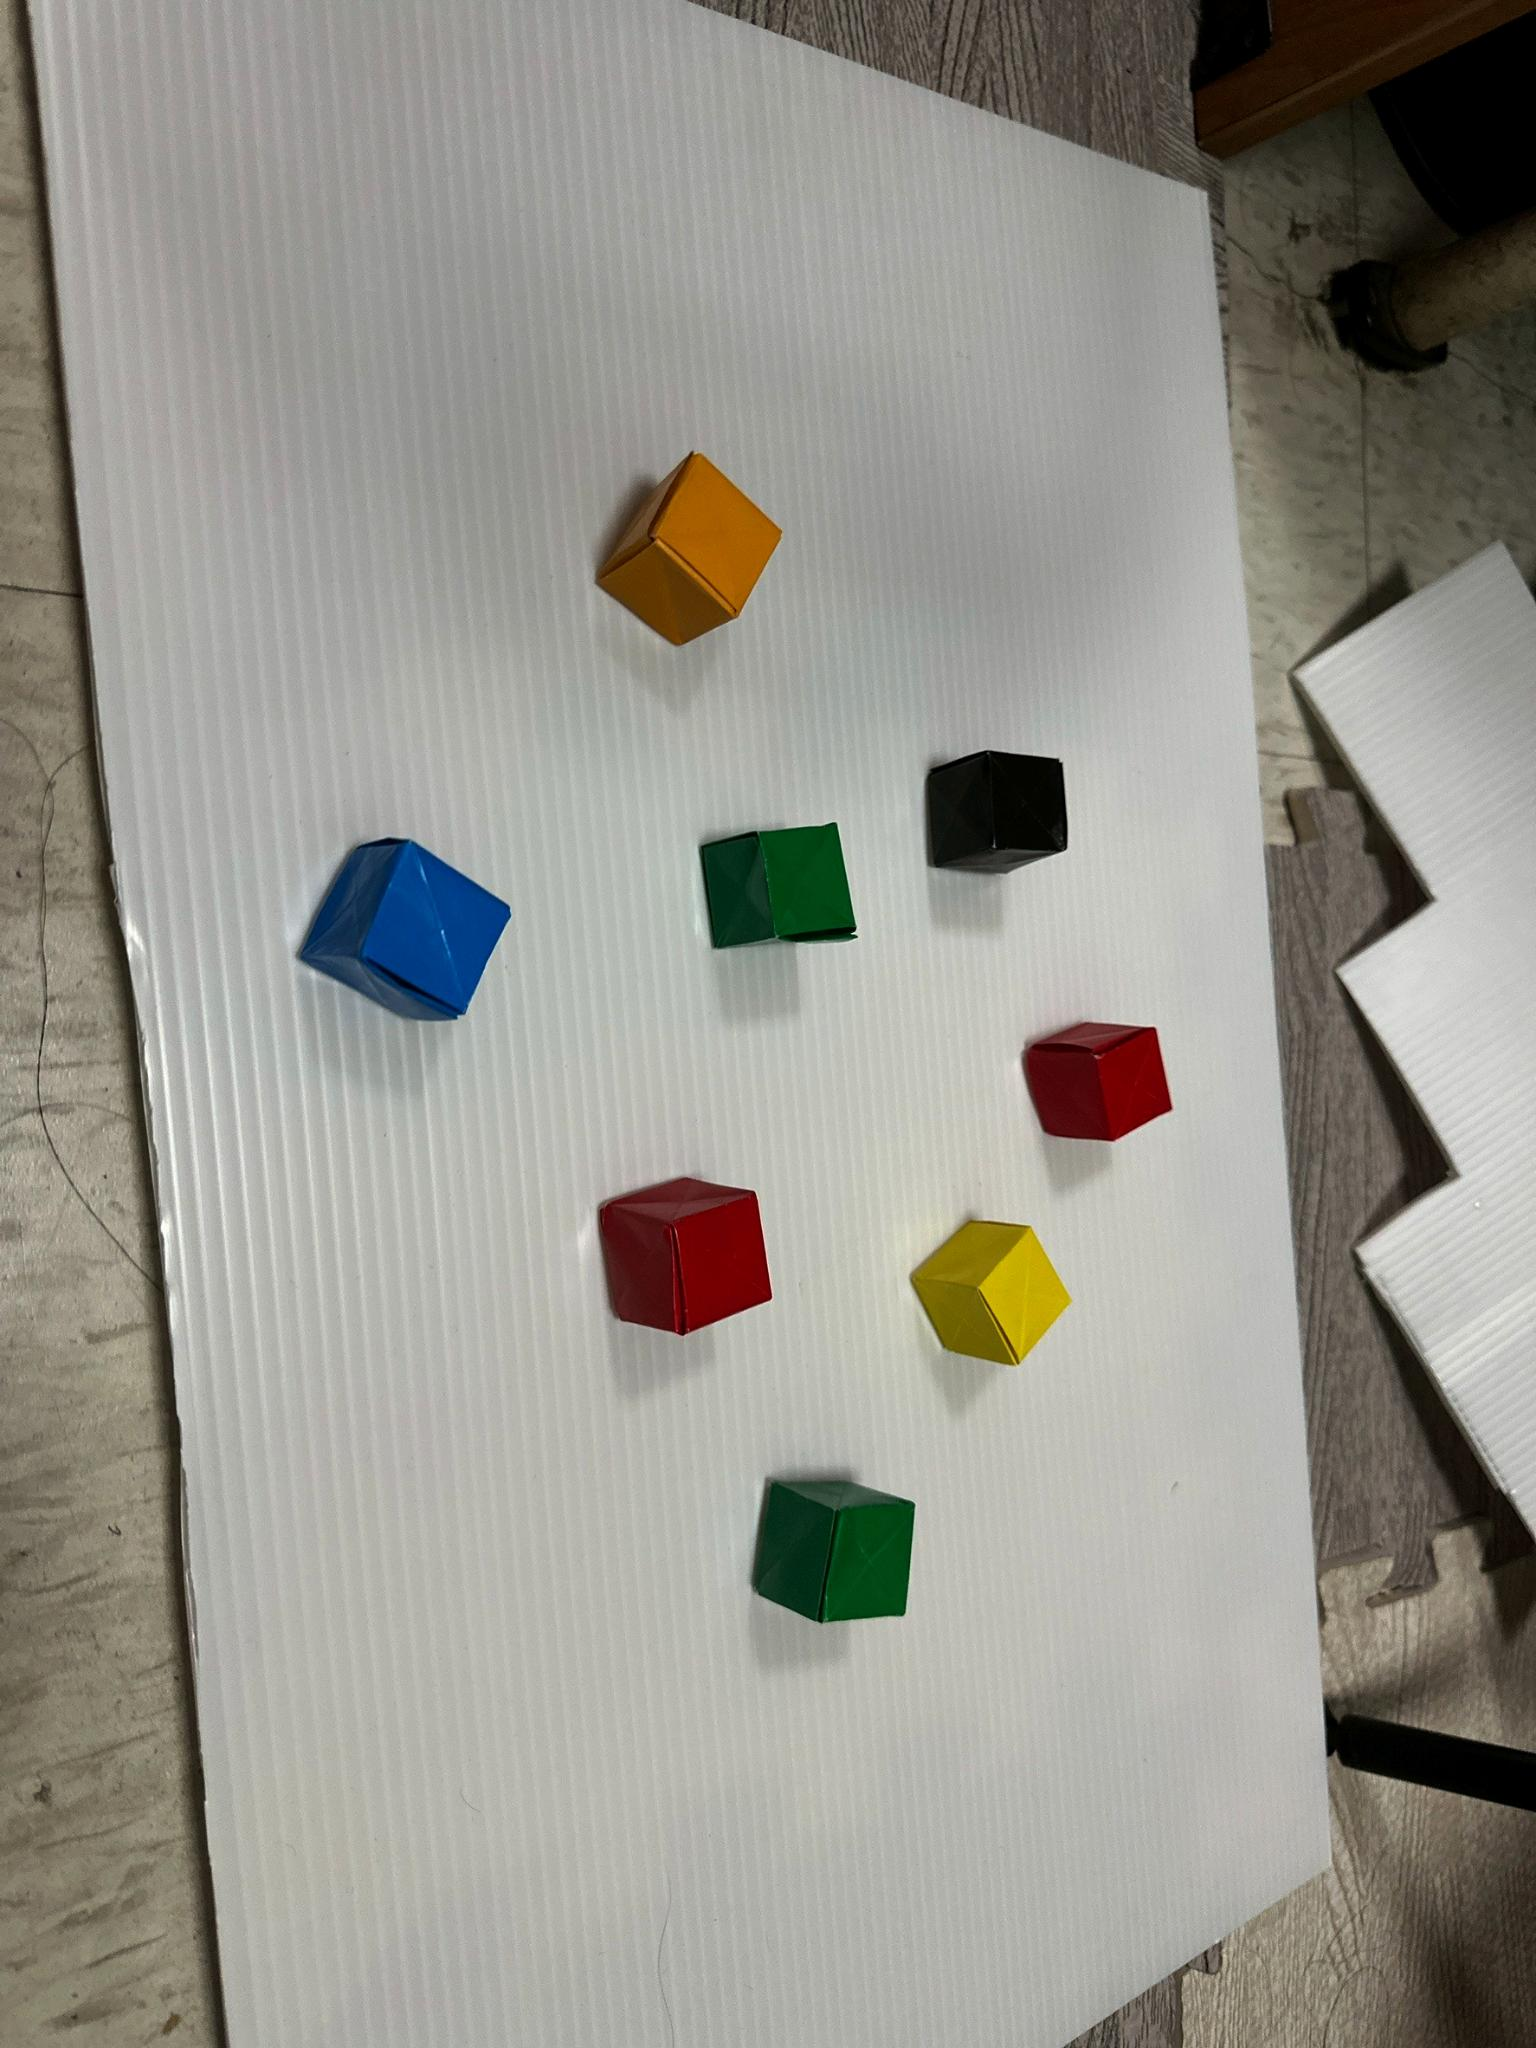base: (300, 840, 508, 1018), (597, 452, 781, 645), (600, 1179, 771, 1335), (753, 1480, 915, 1622), (913, 1221, 1070, 1366), (700, 824, 855, 948), (1025, 1022, 1171, 1140), (928, 750, 1066, 872)
